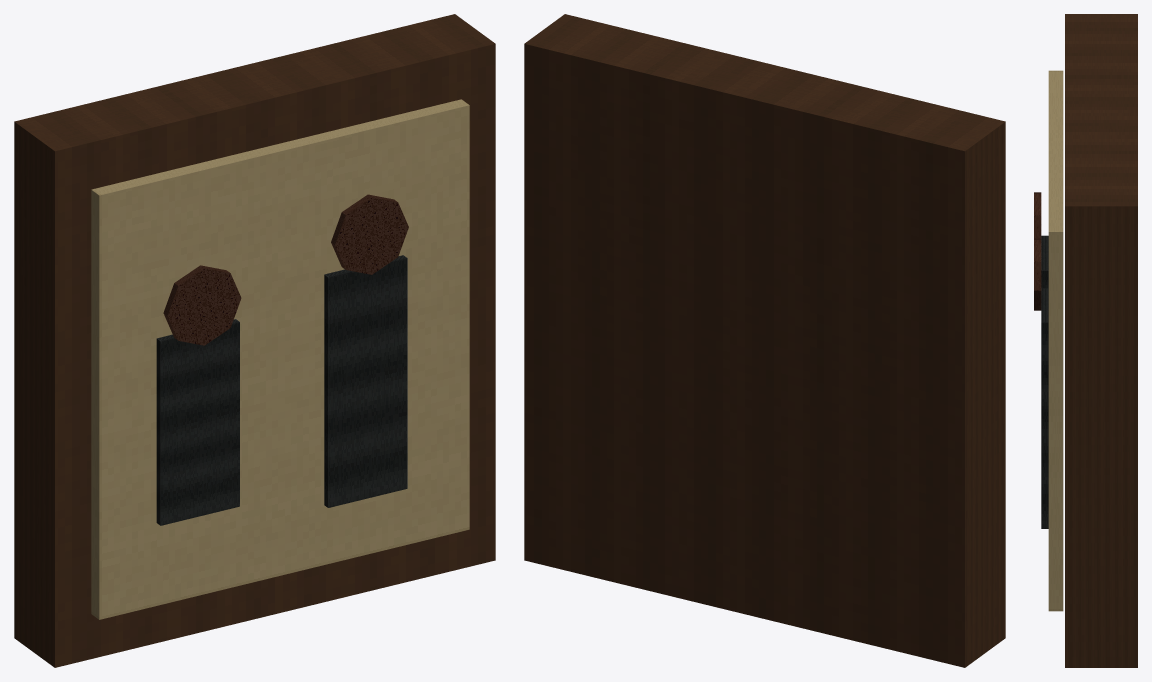
The model's file is level_trace_photograph.glb.
3 renders of one model, left to right at view 1: azimuth 30°, elevation 25°; view 2: azimuth 150°, elevation 25°; view 3: azimuth 270°, elevation 25°, orthographic. The views are drawn at different scales.
Parts seen in each view (by area): view 1: level_trace_photograph; view 2: level_trace_photograph; view 3: level_trace_photograph.
Boxes of the visible parts, left/top/right/bottom form: level_trace_photograph: left=14, top=14, right=495, bottom=667; level_trace_photograph: left=524, top=14, right=1005, bottom=667; level_trace_photograph: left=1034, top=14, right=1137, bottom=667.
Bounding box in the file's own units: 0.25 × 0.28 × 0.057.
Materials: 4 (4 with a texture image).
